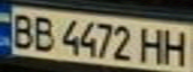2: (112, 21, 136, 62)
4: (57, 16, 81, 56), (75, 18, 96, 57)
7: (93, 19, 115, 60)
B: (6, 10, 39, 49), (27, 12, 57, 53)
H: (160, 26, 193, 68), (136, 25, 169, 65)
